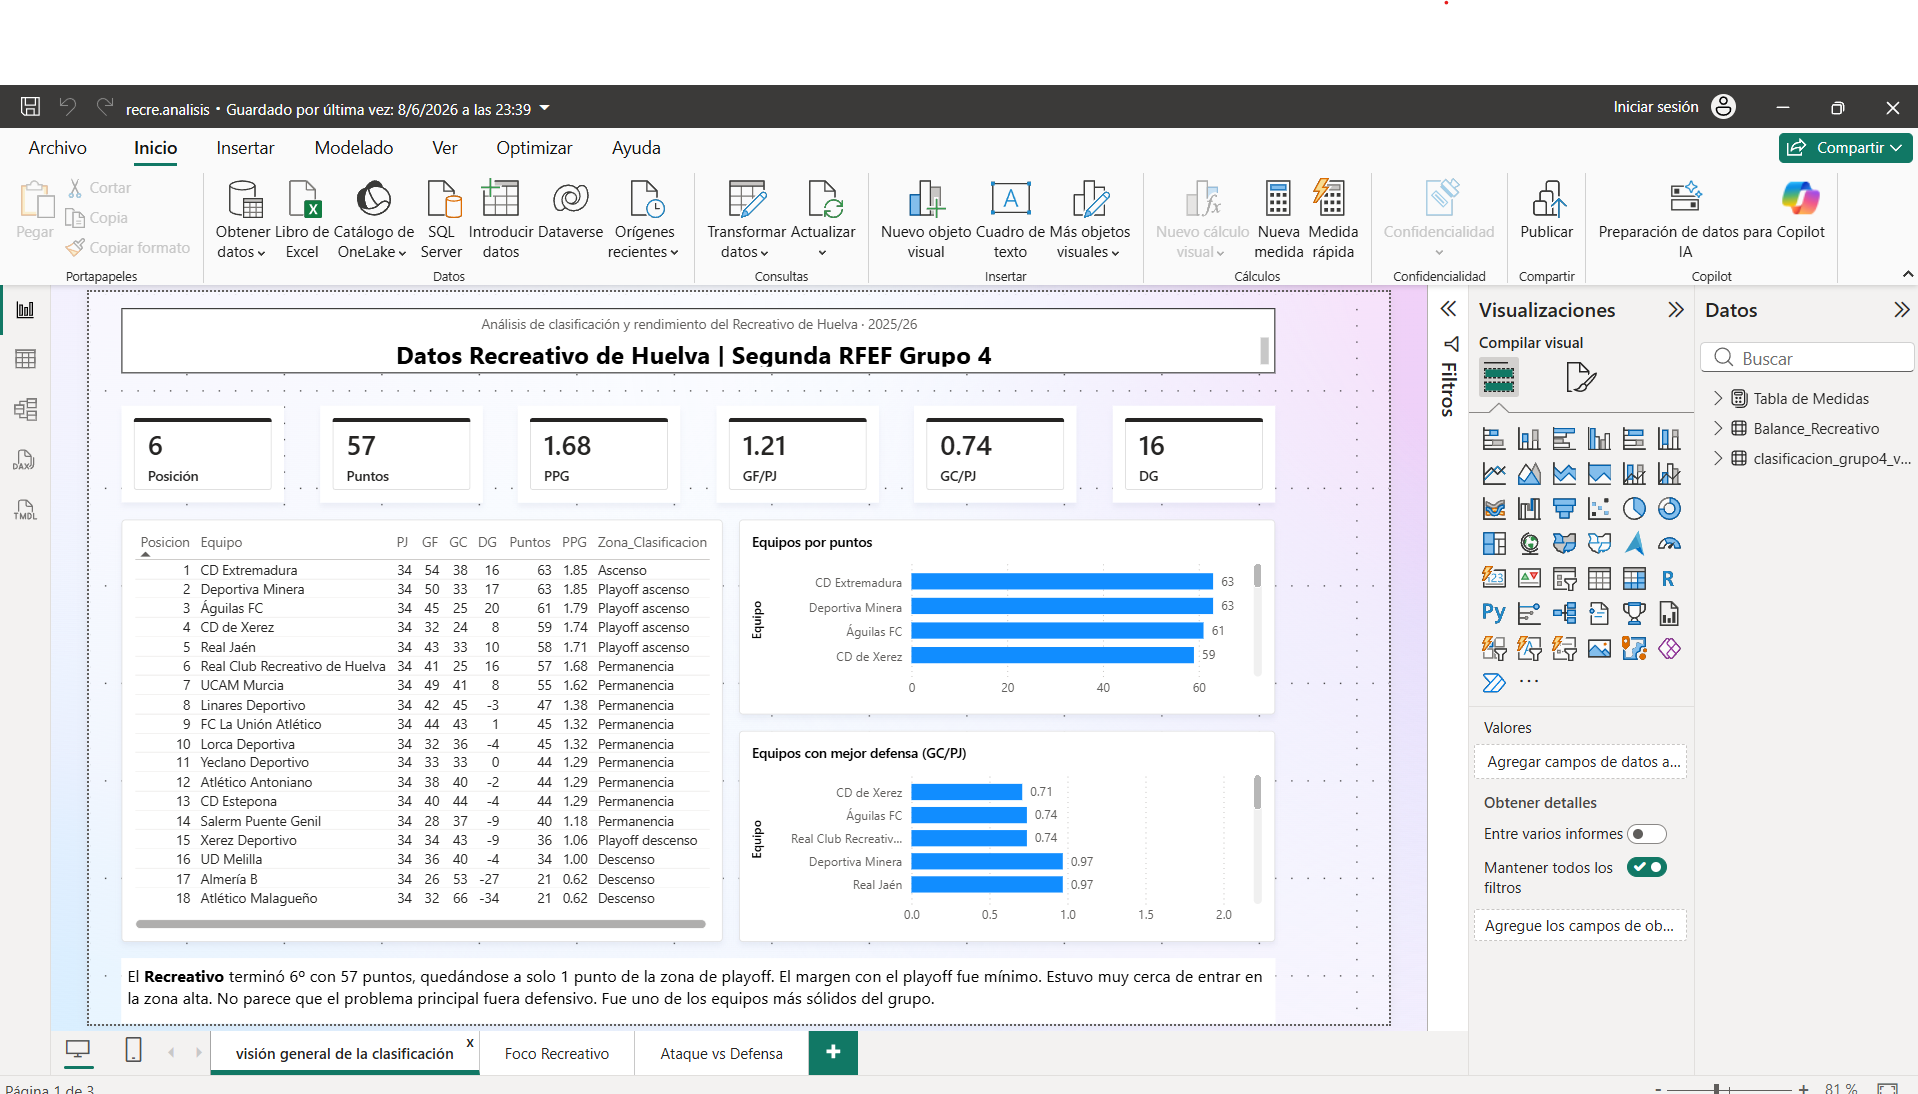

This screenshot's page, from the dashboard's own definition file:
{"tool":"powerbi","page":{"name":"visión general de la clasificación","canvas":[1280,720],"ordinal":0},"visuals":[{"type":"cardVisual","fields":{"Data":["Tabla de Medidas.Puntos Recreativo"]},"box":[227.2,112,160,96],"z":0},{"type":"cardVisual","fields":{"Data":["Tabla de Medidas.Posición Recreativo"]},"box":[32,112,160,95],"z":1000},{"type":"cardVisual","fields":{"Data":["Tabla de Medidas.GC/PJ"]},"box":[812.8,112,160,96],"z":2000},{"type":"cardVisual","fields":{"Data":["Tabla de Medidas.PPG"]},"box":[422.4,112,160,96],"z":3000},{"type":"cardVisual","fields":{"Data":["Tabla de Medidas.GF/PJ Equipo Seleccionado"]},"box":[617.6,112,160,96],"z":4000},{"type":"tableEx","fields":{"Values":["clasificacion_grupo4_validada_decano_data.Posicion","clasificacion_grupo4_validada_decano_data.Equipo","clasificacion_grupo4_validada_decano_data.PJ","clasificacion_grupo4_validada_decano_data.GF","clasificacion_grupo4_validada_decano_data.GC","clasificacion_grupo4_validada_decano_data.DG","clasificacion_grupo4_validada_decano_data.Puntos","clasificacion_grupo4_validada_decano_data.PPG","clasificacion_grupo4_validada_decano_data.Zona_Clasificacion"]},"box":[32,224,592,416],"z":5000},{"type":"barChart","title":"Equipos por puntos","fields":{"Category":["clasificacion_grupo4_validada_decano_data.Equipo"],"Y":["Sum(clasificacion_grupo4_validada_decano_data.Puntos)"]},"box":[640,224,528,192],"z":6000},{"type":"clusteredBarChart","title":"Equipos con mejor defensa (GC/PJ)","fields":{"Category":["clasificacion_grupo4_validada_decano_data.Equipo"],"Y":["Sum(clasificacion_grupo4_validada_decano_data.GC_Por_Partido)"]},"box":[640,432,528,208],"z":7000},{"type":"cardVisual","fields":{"Data":["Tabla de Medidas.Dif Goles"]},"box":[1008,112,160,96],"z":8000},{"type":"textbox","box":[32,16,1136,64],"z":9000},{"type":"textbox","box":[32,656,1136,64],"z":10000}]}

Visuals, with their boxes on the page's 1280x720 design canvas (x1, y1, x2, y2). These are canvas units, not pixel positions in the 1918x1094 screenshot, which may show the page scaled, cropped or inside an application window:
cardVisual - Tabla de Medidas.Puntos Recreativo: locate(227, 112, 387, 208)
cardVisual - Tabla de Medidas.Posición Recreativo: locate(32, 112, 192, 207)
cardVisual - Tabla de Medidas.GC/PJ: locate(813, 112, 973, 208)
cardVisual - Tabla de Medidas.PPG: locate(422, 112, 582, 208)
cardVisual - Tabla de Medidas.GF/PJ Equipo Seleccionado: locate(618, 112, 778, 208)
tableEx - clasificacion_grupo4_validada_decano_data.Posicion x clasificacion_grupo4_validada_decano_data.Equipo: locate(32, 224, 624, 640)
"Equipos por puntos" barChart: locate(640, 224, 1168, 416)
"Equipos con mejor defensa (GC/PJ)" clusteredBarChart: locate(640, 432, 1168, 640)
cardVisual - Tabla de Medidas.Dif Goles: locate(1008, 112, 1168, 208)
textbox: locate(32, 16, 1168, 80)
textbox: locate(32, 656, 1168, 720)
